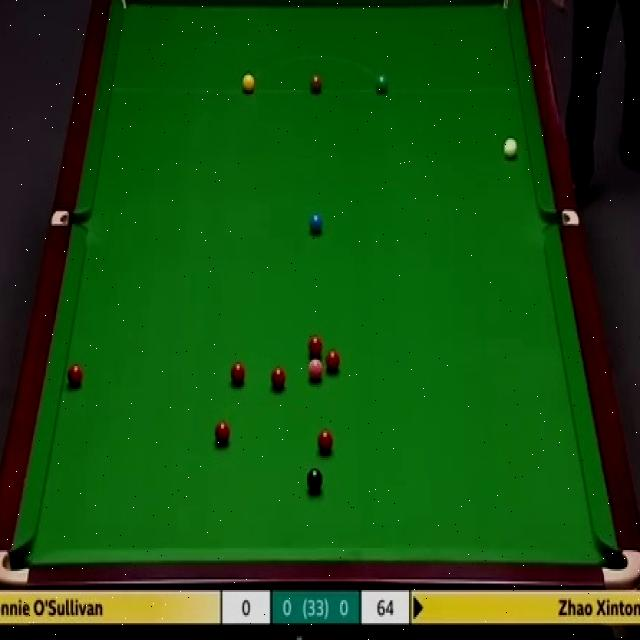black-ball: (306, 468, 323, 495)
blue-ball: (309, 215, 324, 238)
brown-ball: (309, 73, 323, 94)
green-ball: (374, 75, 390, 96)
pink-ball: (308, 360, 324, 386)
red-ball: (316, 430, 334, 455), (230, 361, 247, 387), (325, 350, 343, 374), (216, 422, 232, 446), (270, 368, 286, 392), (308, 335, 322, 359), (68, 366, 82, 389)
white-ball: (502, 135, 518, 160)
yellow-ball: (241, 72, 255, 93)
